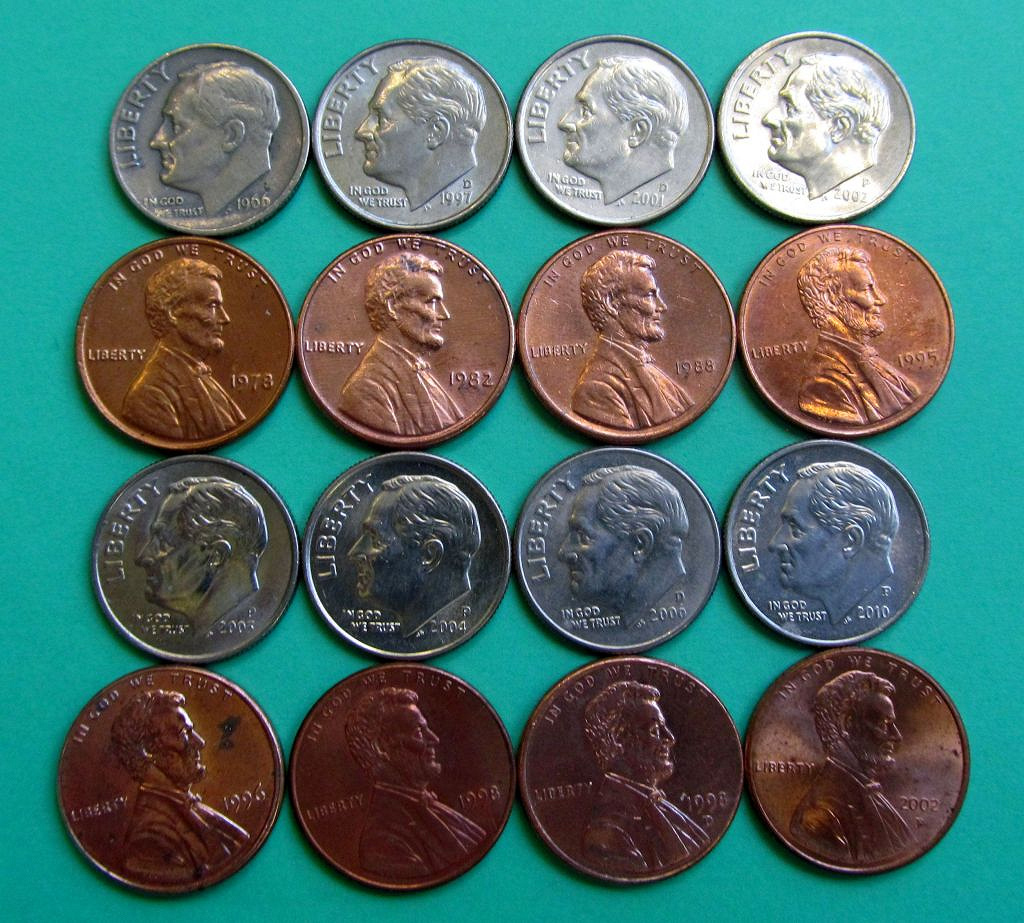coin: (736, 646, 978, 870), (517, 650, 748, 884), (287, 657, 515, 892), (61, 666, 285, 902), (736, 216, 960, 443), (296, 230, 518, 449), (517, 221, 739, 439), (69, 237, 292, 452), (90, 453, 304, 660), (304, 450, 511, 661), (517, 443, 720, 653), (723, 442, 930, 646), (715, 30, 919, 226), (103, 44, 311, 230), (515, 30, 714, 223), (311, 39, 511, 228)
